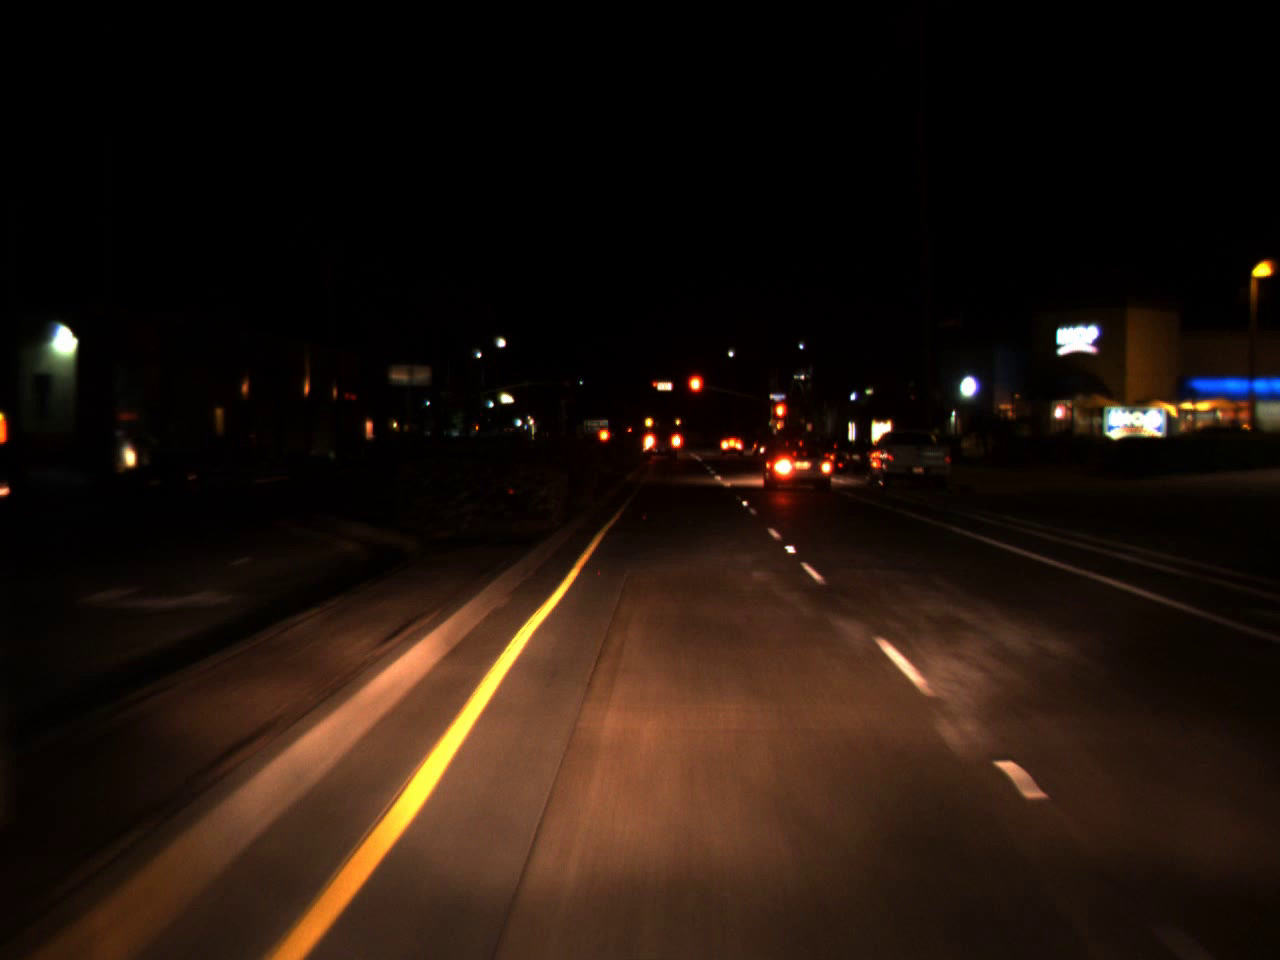stop: (685, 372, 703, 415), (772, 400, 788, 437), (651, 381, 658, 391)
